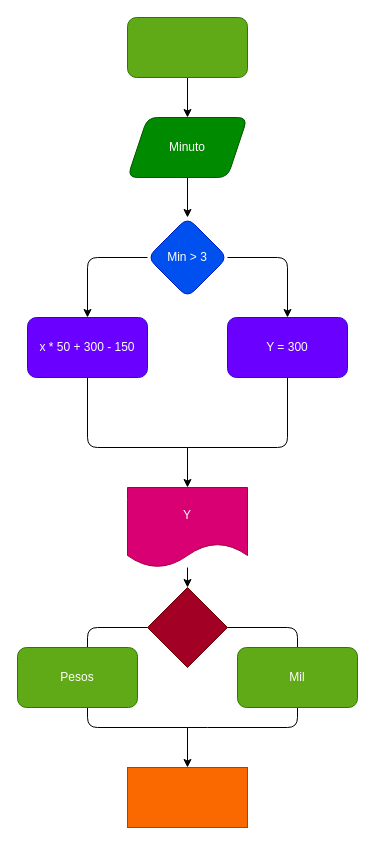
Some shapes in this 375 by 845 pixel diagram are drawn without their labels. Each missing label, with the centre of its shape:
"Fin" belongs at [187,797].
"Inicio" belongs at [187,47].
"Y < 999" belongs at [187,627].
